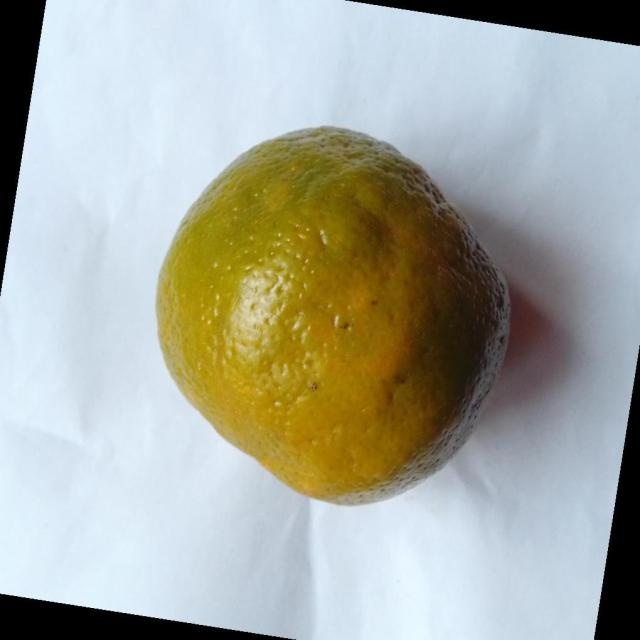agrume: (154, 124, 512, 507)
